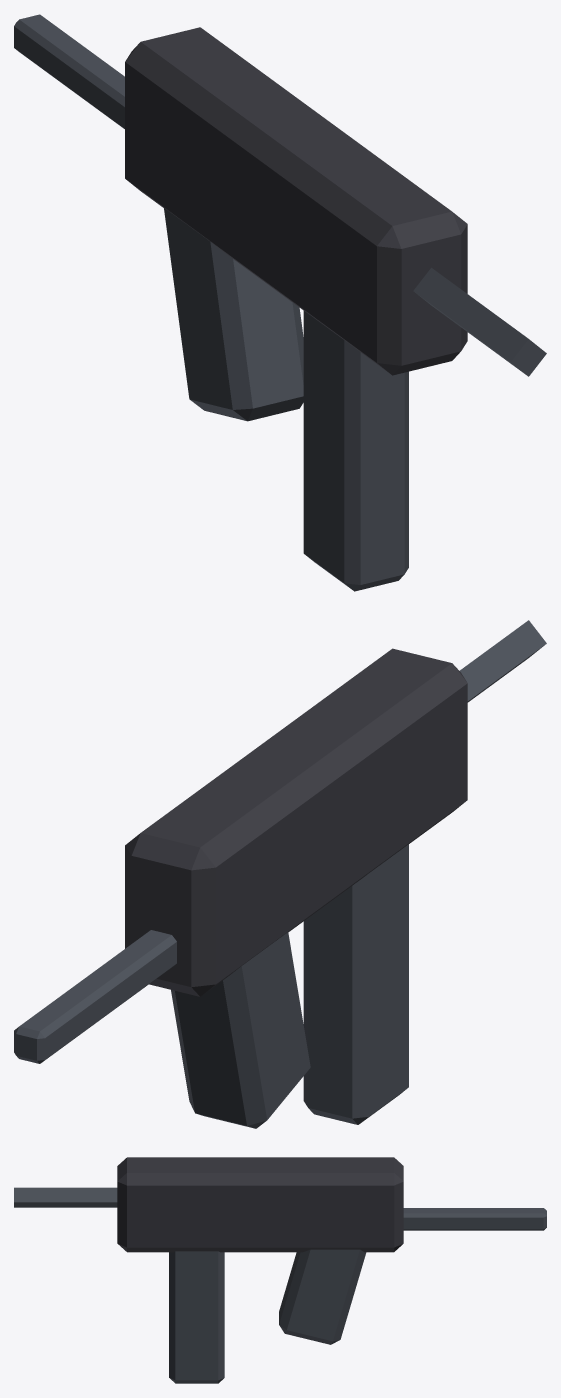
The model's file is SMG.fbx.
3 renders of one model, top to bottom at view 1: azimuth 30°, elevation 25°; view 2: azimuth 150°, elevation 25°; view 3: azimuth 270°, elevation 25°, orthographic. The views are drawn at different scales.
Parts seen in each view (by area): view 1: SMG; view 2: SMG; view 3: SMG.
Part boxes in pixels (left/top/right/bottom): SMG: left=14, top=14, right=546, bottom=591; SMG: left=14, top=620, right=546, bottom=1128; SMG: left=14, top=1157, right=546, bottom=1383.
Bounding box in the file's own units: 0.35 × 1.48 × 3.35.
1 material, 1 textured.
